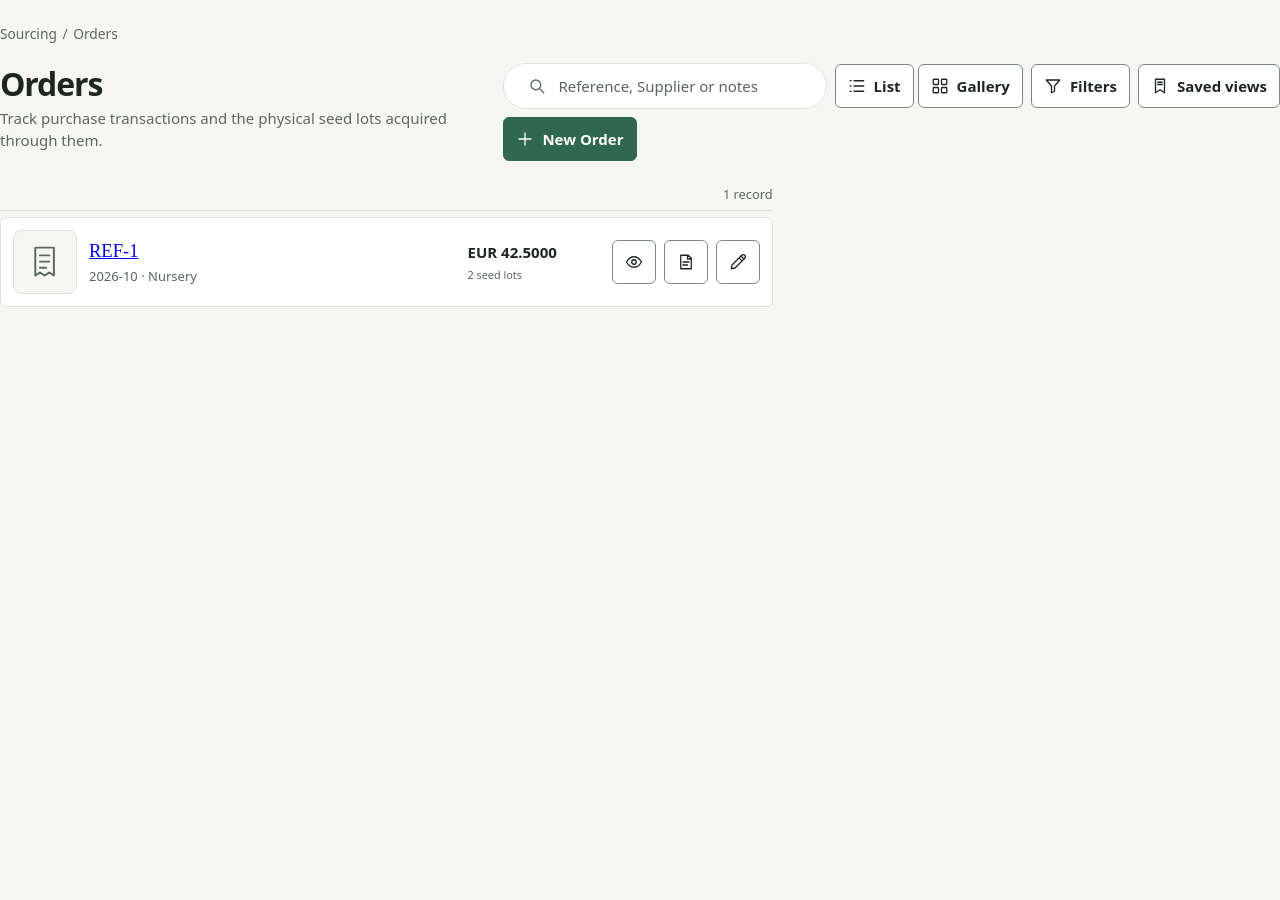
Test: new Order keeps unknown date and absent price, then sends the exact supplied pair
Click the button "New Order" at (570, 139), box [503,117,636,161]
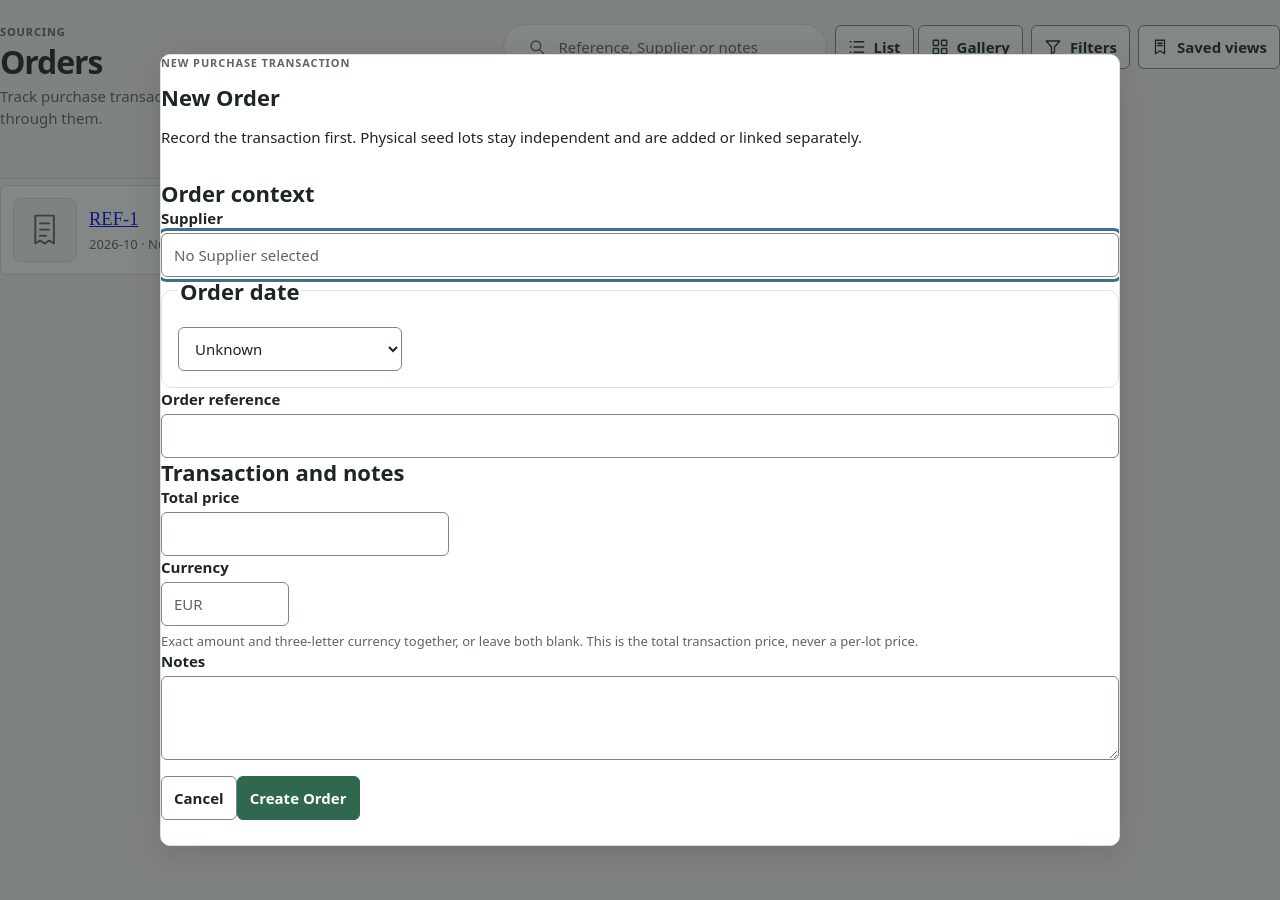
Result: the element with class "order-form__grid" is shown at [161,179,1119,760]
Result: the button "Cancel" is shown at [161,776,237,820]
Type "NEW" into the field labelled "Order reference" at (640, 436), box [161,414,1119,458]
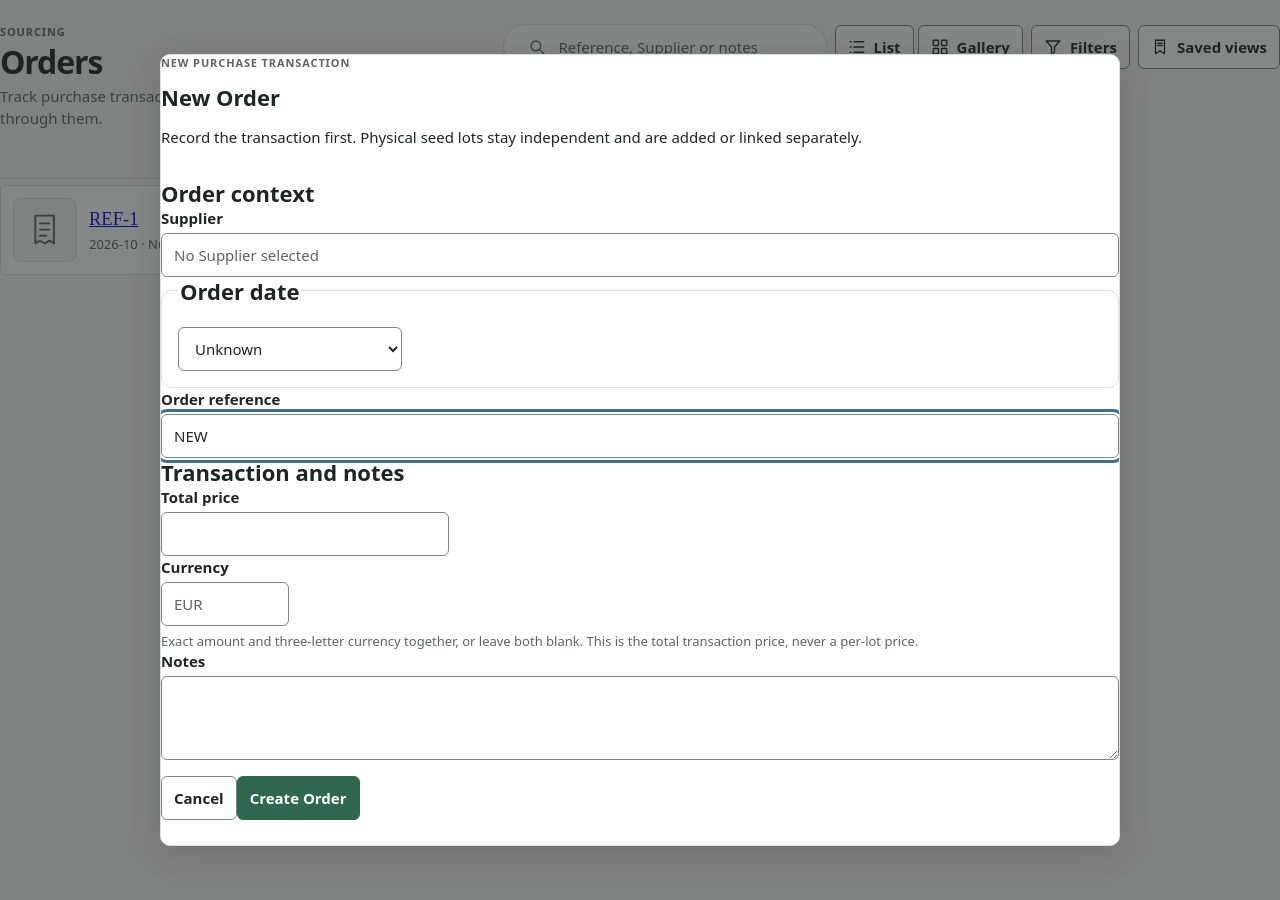
Type "0.010000000000000001" into the field labelled "Total price" at (305, 534), box [161,512,449,556]
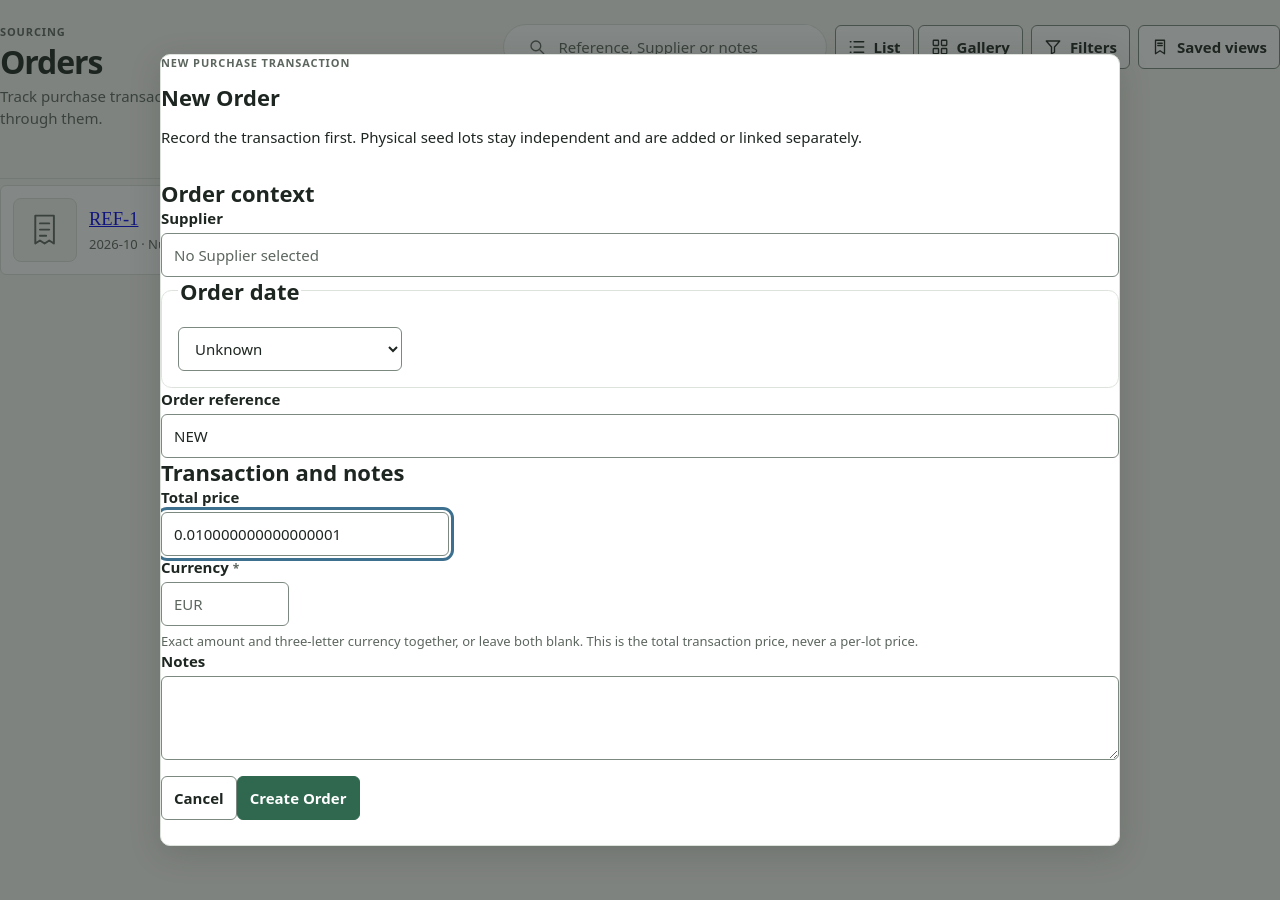
Type "USD" into the field labelled "Currency" at (225, 604), box [161,582,289,626]
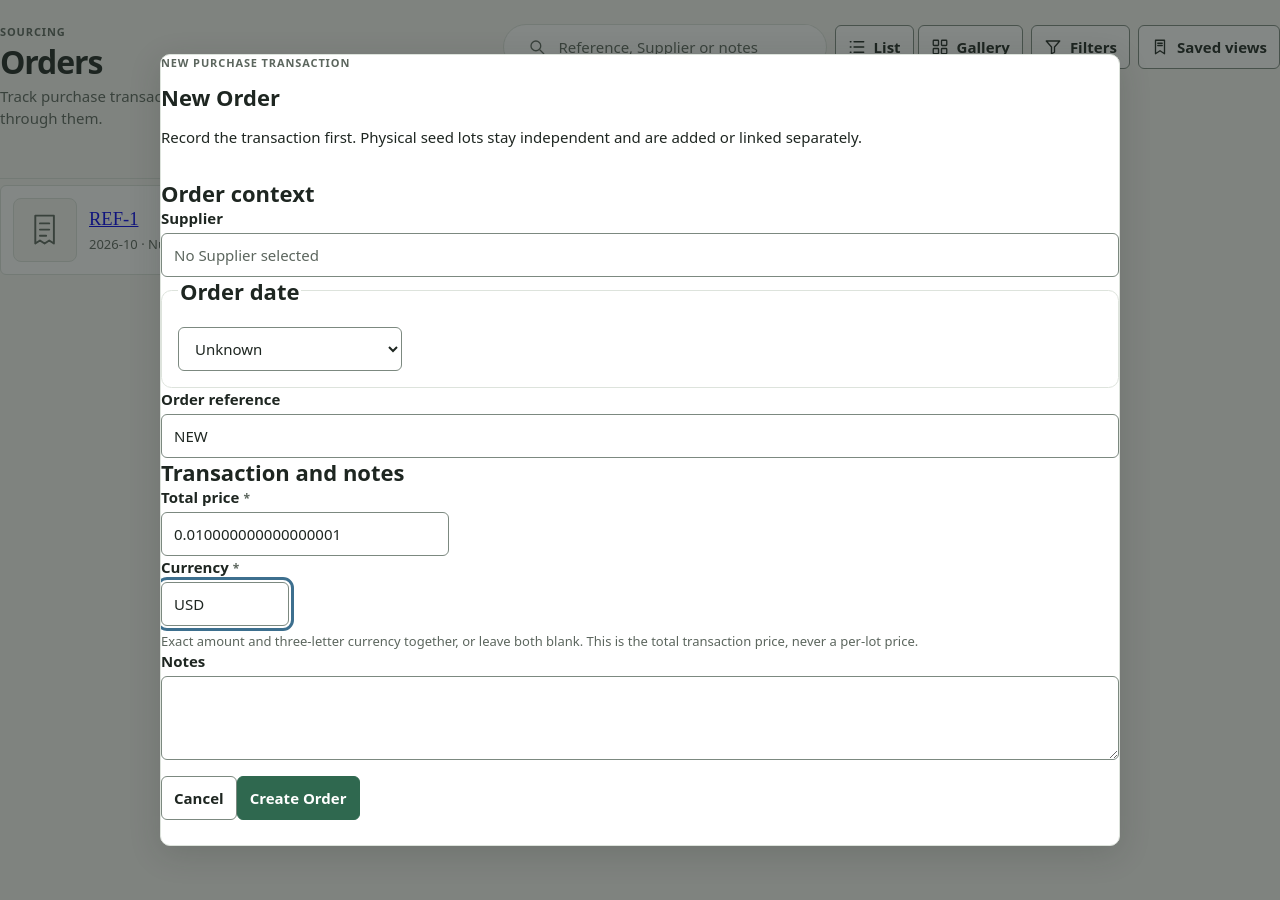
Clear the field labelled "Currency" at (225, 604), box [161,582,289,626]
Type "USD" into the field labelled "Currency" at (225, 604), box [161,582,289,626]
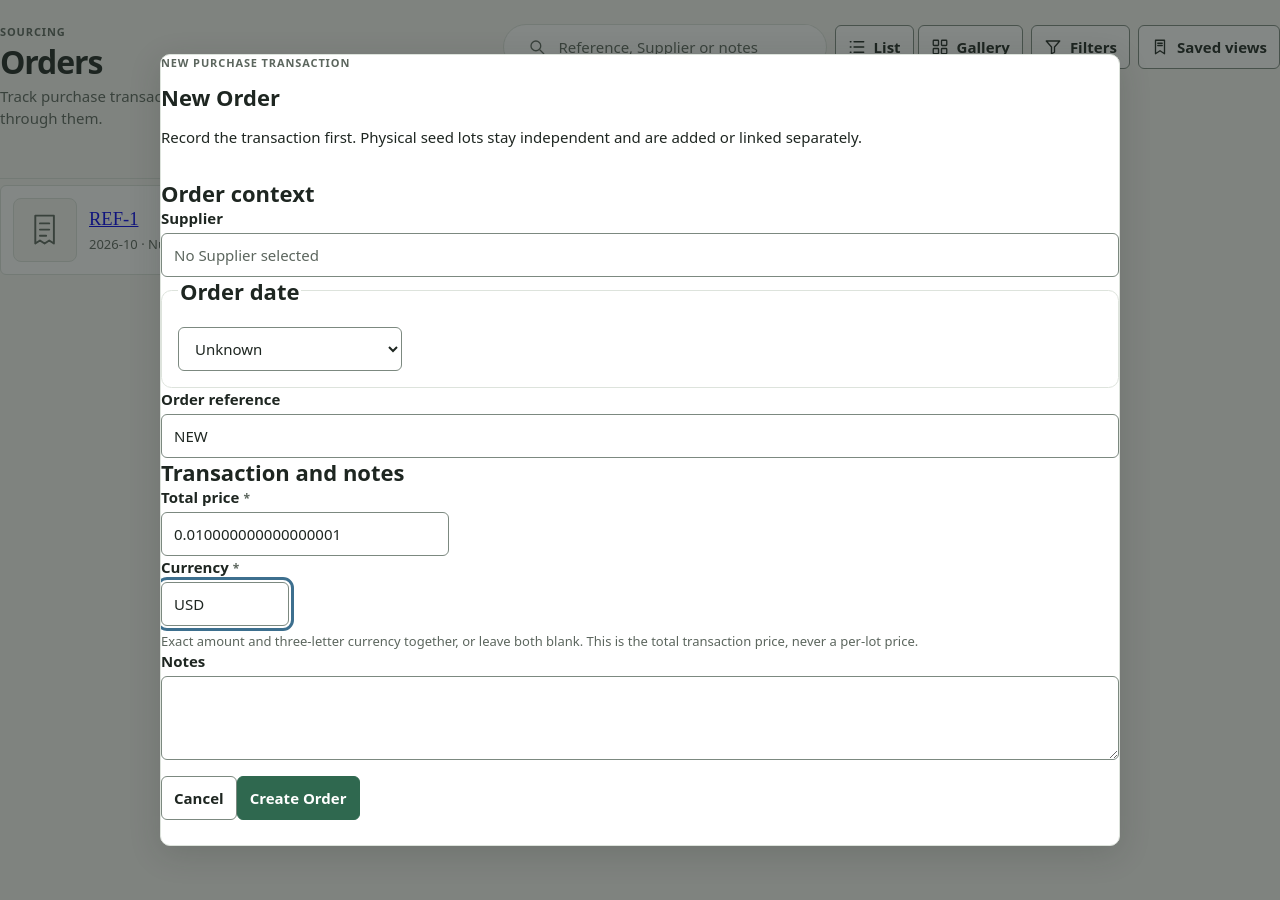
Click the button "Create Order" at (298, 798), box [237,776,360,820]
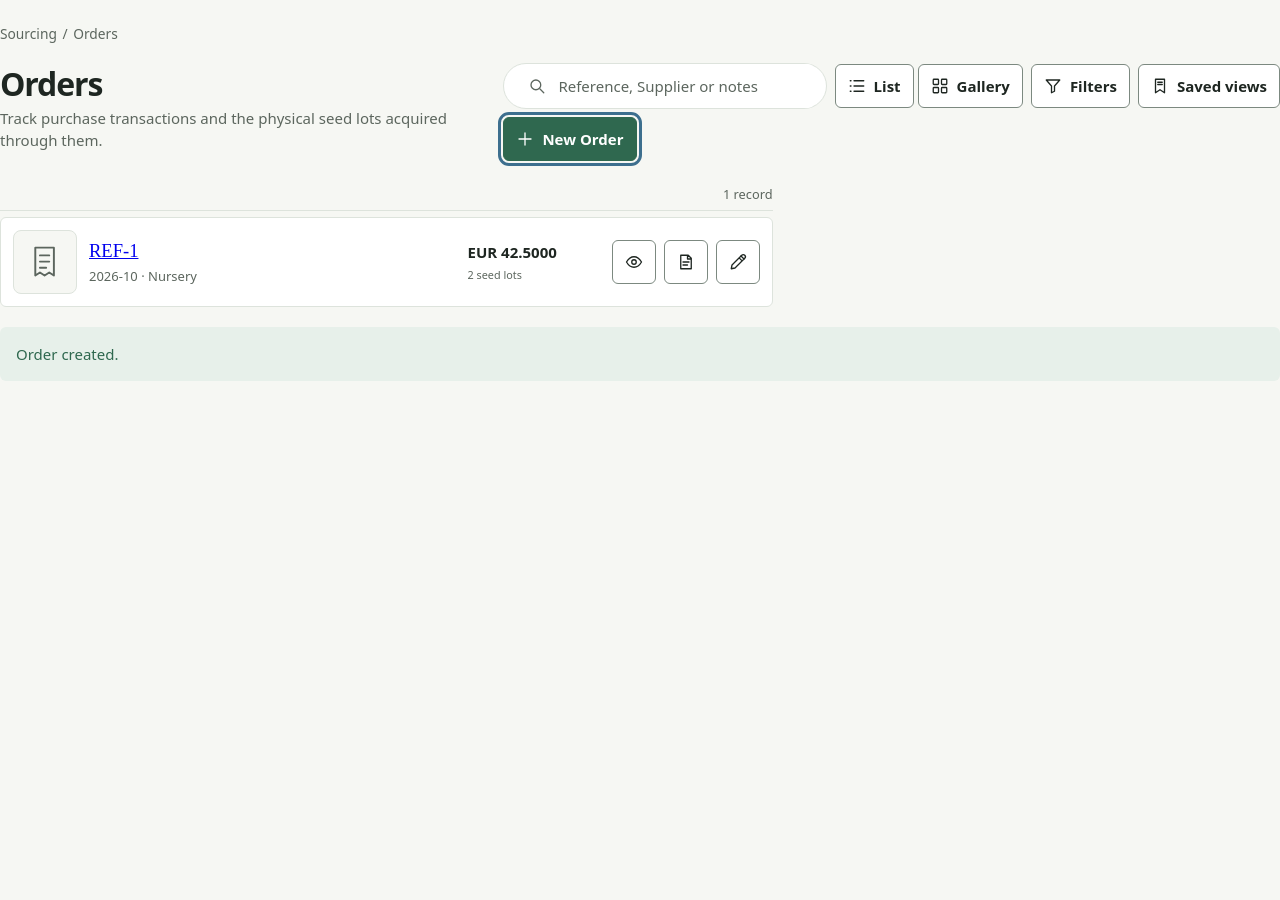
Result: the dialog is gone
Result: the message reads "Order created." at [16,344,118,364]
